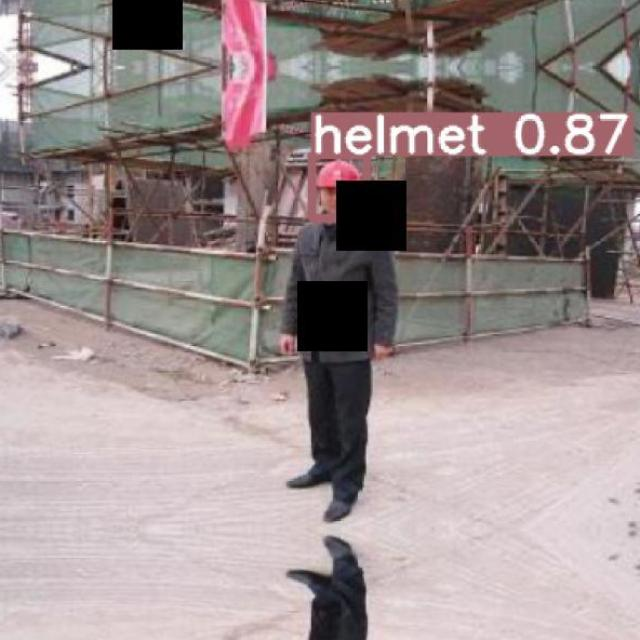helmet: (315, 159, 360, 188)
